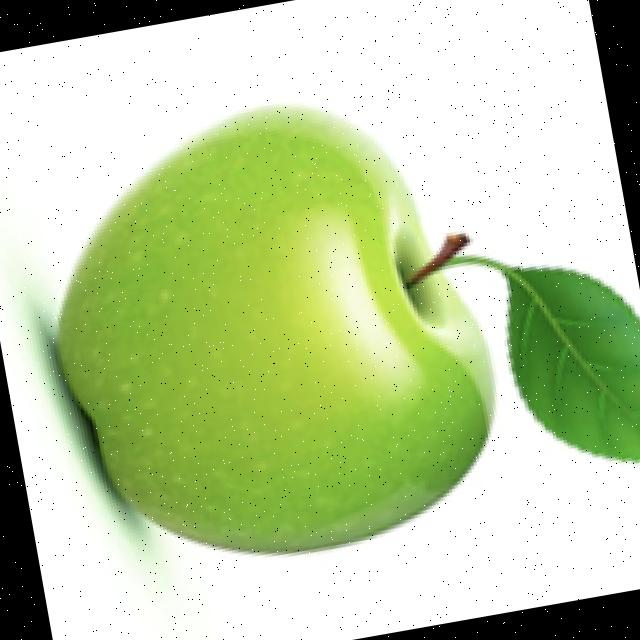apple: (9, 98, 640, 566)
